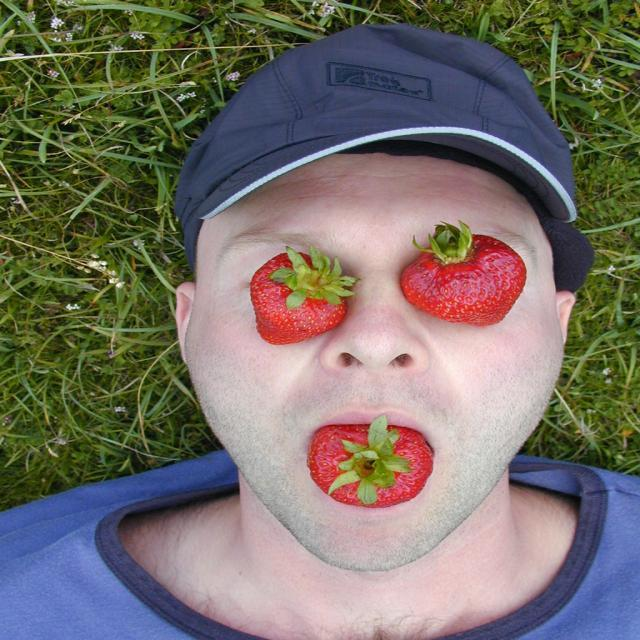Strawberry: (399, 218, 530, 328), (306, 416, 432, 508), (249, 246, 359, 346)
